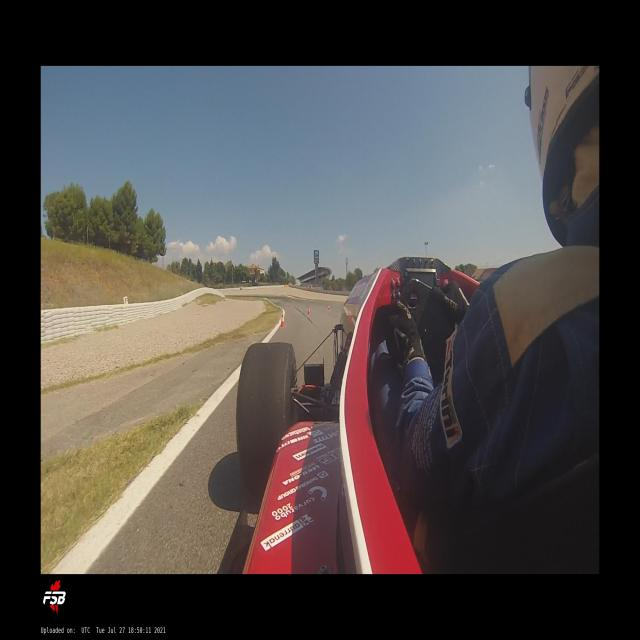orange_cone: (280, 314, 286, 328), (307, 307, 310, 315), (327, 305, 330, 311)
